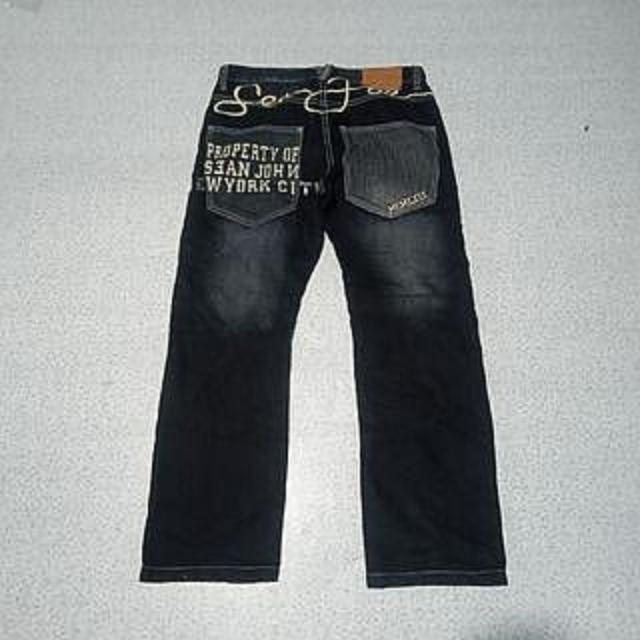TROUSER: (128, 58, 521, 597)
